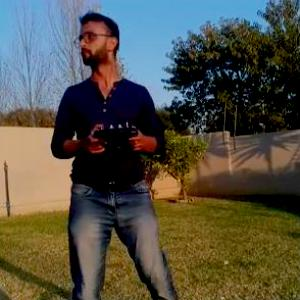follow: (46, 8, 188, 299)
